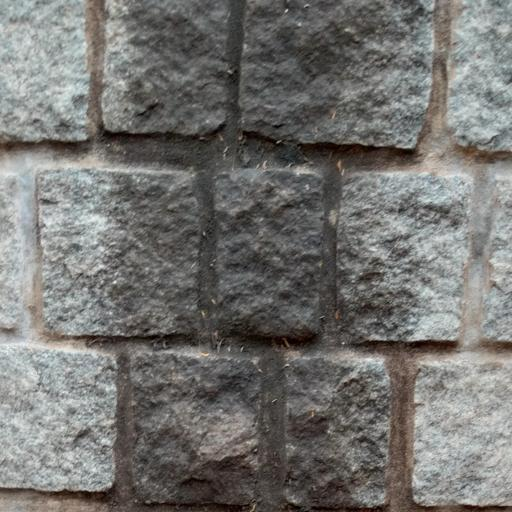stain: (66, 0, 431, 512)
